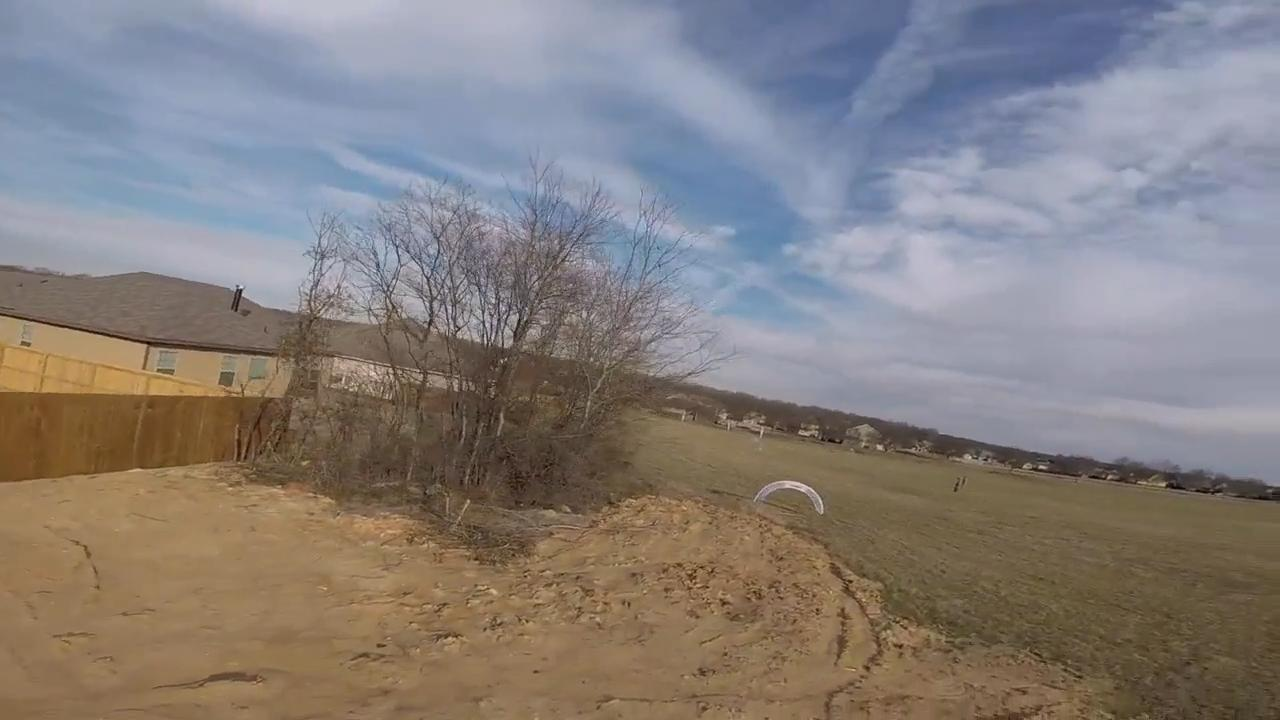gate: (752, 479, 826, 529)
